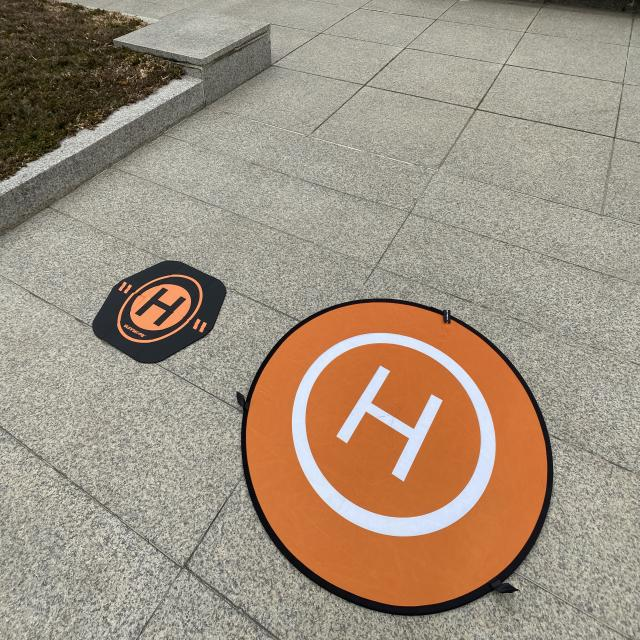helipad: (290, 331, 497, 537), (116, 273, 203, 343)
